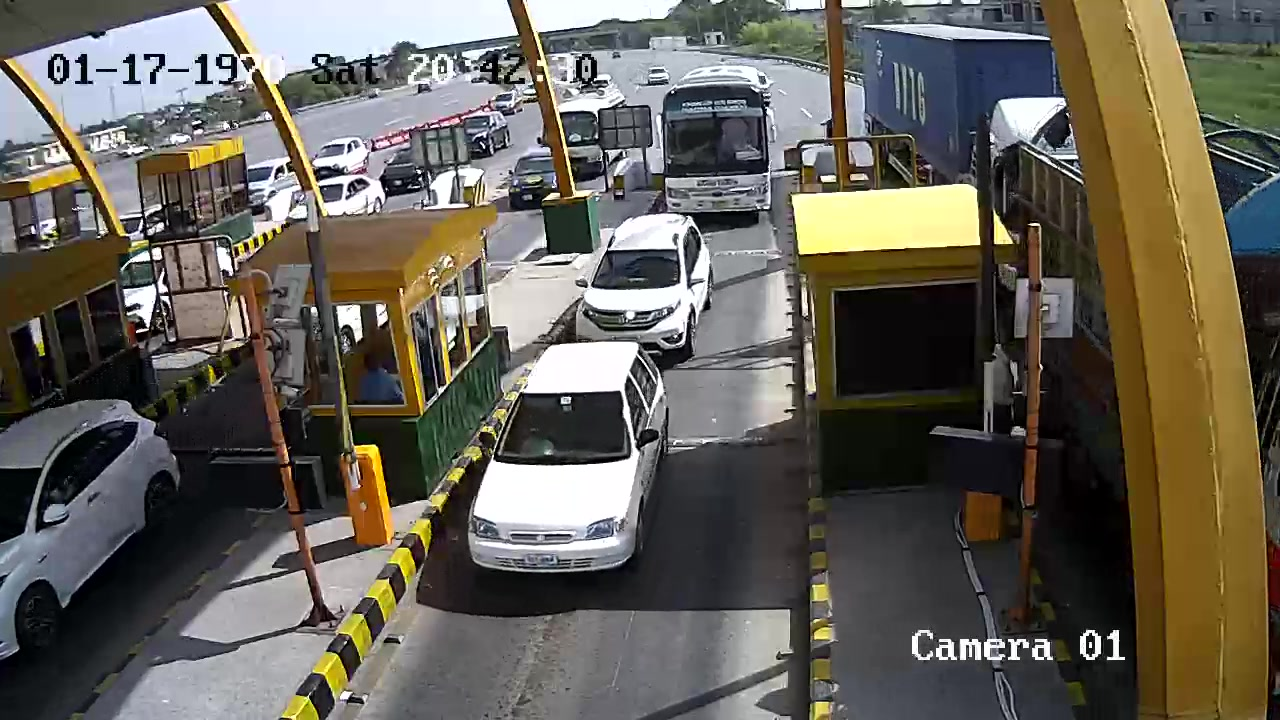F1: (464, 336, 681, 596)
